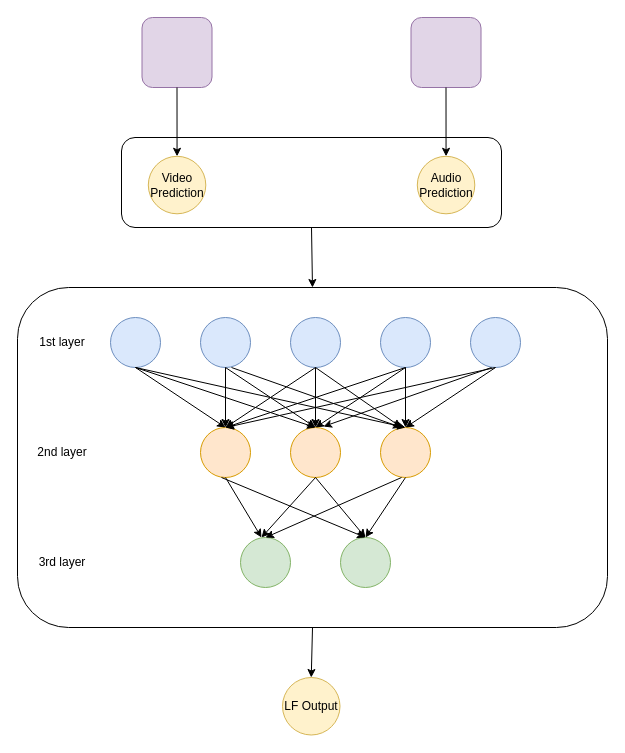
This 625x753 diagram has some shape labels left out. The box of each missing label's shape, as (x1, y1, x2, y2) in pixels:
Audio Classifier: (410, 16, 481, 88)
Video Classifier: (141, 16, 212, 88)
